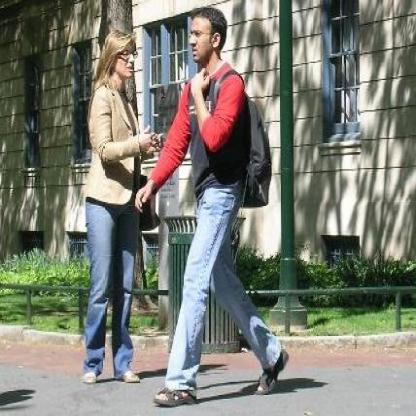person: (151, 5, 293, 405), (74, 27, 144, 382)
